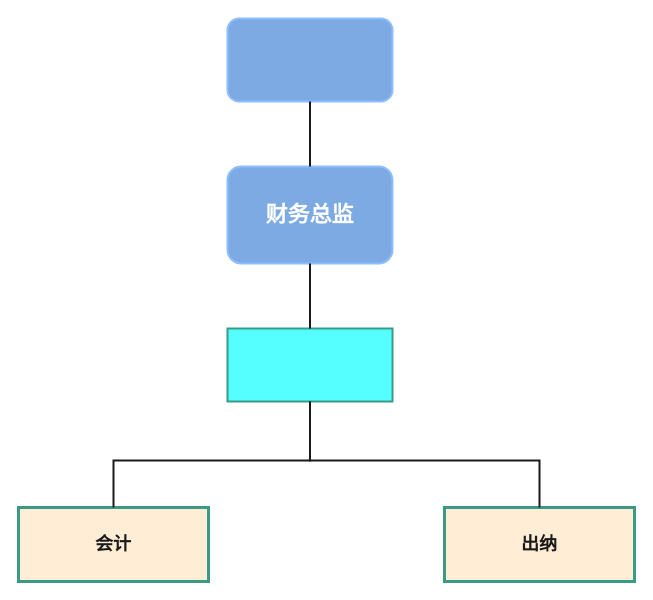
The diagram is 653 pixels wide and 600 high, and some of its shapes have lost their labels. The box of each missing label's shape, as (x1, y1, x2, y2) in pixels:
财务管理部: (226, 17, 393, 102)
财务经理: (226, 327, 393, 402)
